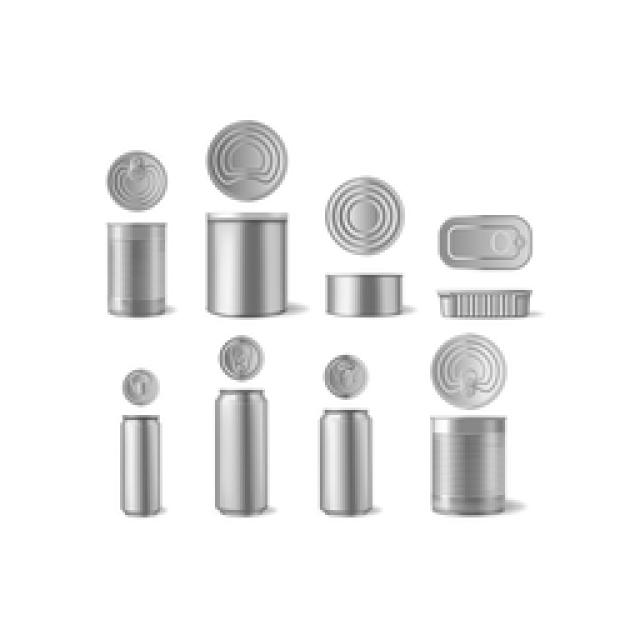alumunium: (208, 212, 285, 312), (430, 415, 502, 510), (208, 120, 285, 200), (215, 390, 265, 512), (325, 178, 400, 252), (430, 332, 502, 408), (320, 410, 370, 512), (108, 222, 162, 312), (440, 215, 530, 268), (120, 415, 160, 515), (108, 152, 162, 208), (328, 275, 400, 312), (440, 290, 528, 315), (325, 355, 365, 398), (220, 338, 260, 378), (122, 370, 155, 402)
